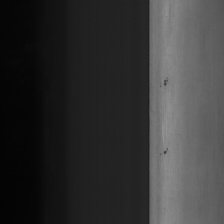oil_spot: (159, 141, 171, 159), (158, 75, 171, 91)
